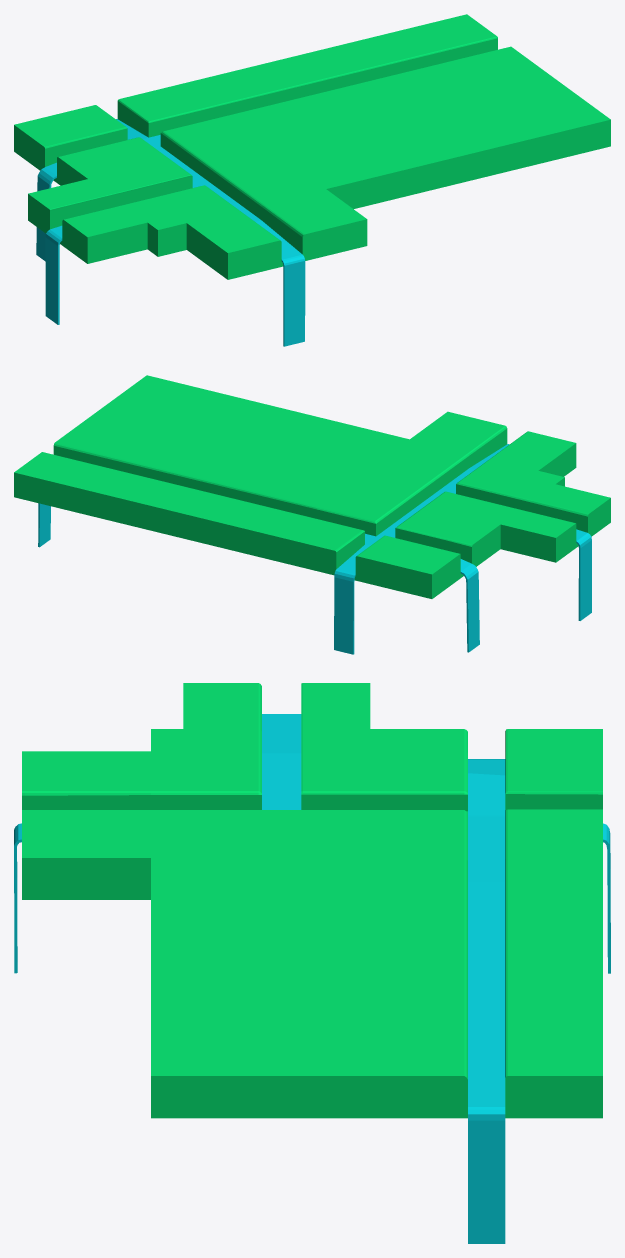
File: ScottishVillageLandUVd2.fbx
3 renders of one model, top to bottom at view 1: azimuth 30°, elevation 25°; view 2: azimuth 150°, elevation 25°; view 3: azimuth 270°, elevation 25°, orthographic. The views are drawn at different scales.
Visible parts, largest first — view 1: Plane; view 2: Plane; view 3: Plane.
Part boxes in pixels (left/top/right/bottom): Plane: left=14, top=14, right=610, bottom=346; Plane: left=14, top=375, right=610, bottom=654; Plane: left=14, top=683, right=610, bottom=1243.
Size of the model in its own units: 1391 by 268 by 877.
